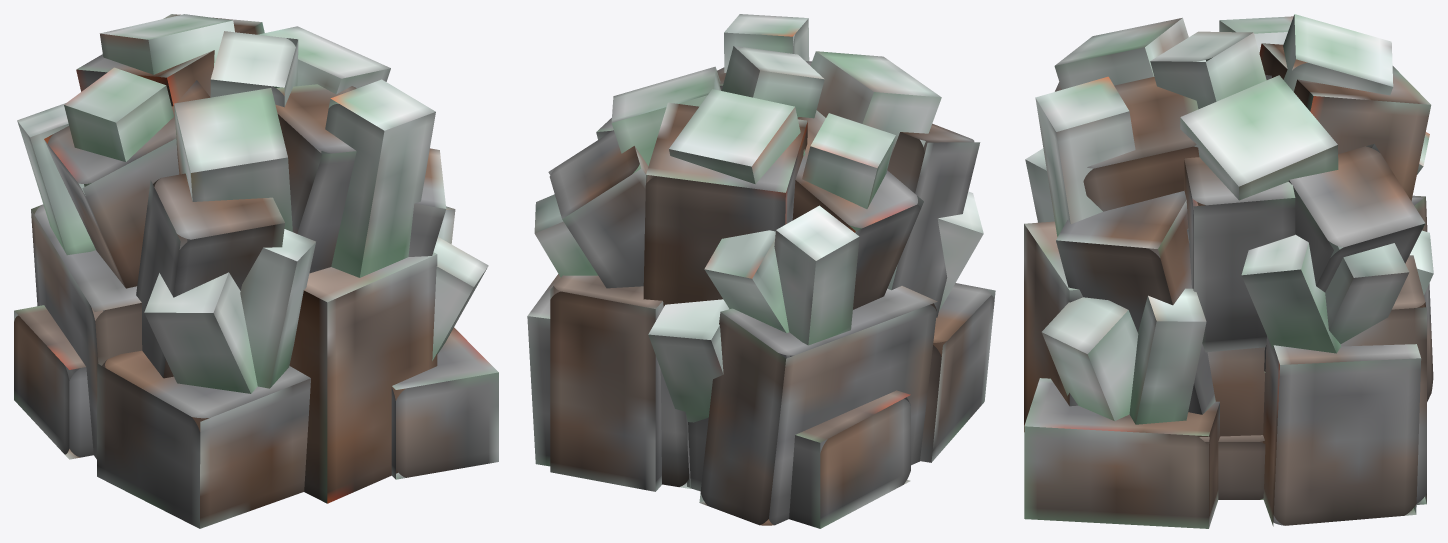
Rendered from SM_Iron_Ore_01_a.fbx.
3 views of the same model, side by side, from view 1: azimuth 30°, elevation 25°; view 2: azimuth 150°, elevation 25°; view 3: azimuth 270°, elevation 25° (orthographic). The views are drawn at different scales.
Visible parts, largest first — view 1: Iron; view 2: Iron; view 3: Iron.
Boxes of the visible parts, left/top/right/bottom form: Iron: left=14, top=14, right=498, bottom=528; Iron: left=527, top=14, right=995, bottom=528; Iron: left=1024, top=14, right=1433, bottom=528.
Bounding box in the file's own units: 100 × 109 × 100.
1 material, 1 textured.
